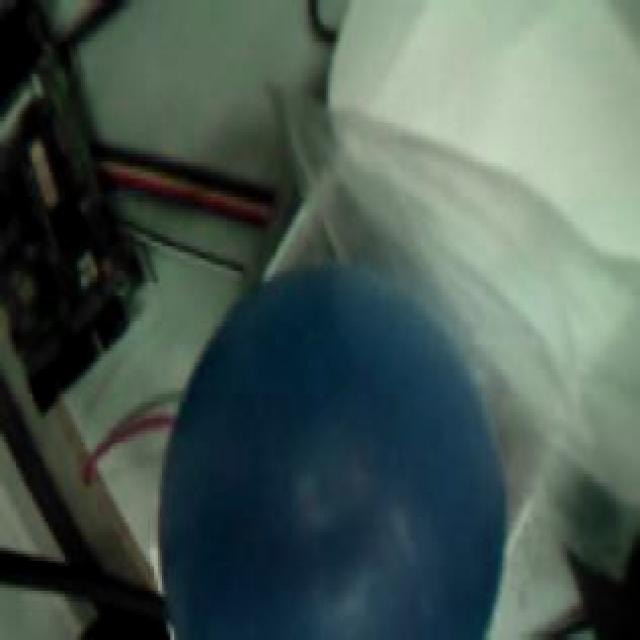BallPurple: (159, 267, 506, 640)
